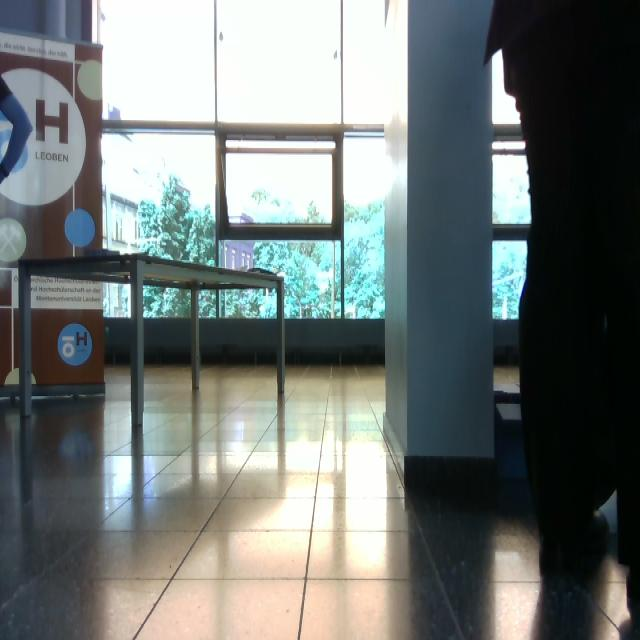door: (1, 5, 106, 408)
light bulb: (65, 208, 96, 248), (1, 217, 27, 262), (5, 368, 37, 386)
person: (483, 1, 640, 640)
pillar: (403, 1, 497, 477)
table: (15, 249, 289, 430)
tiled floor: (2, 361, 638, 638)
window: (95, 1, 391, 324)
